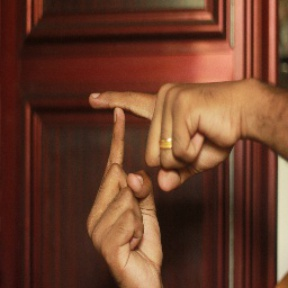T: (75, 74, 178, 212)
